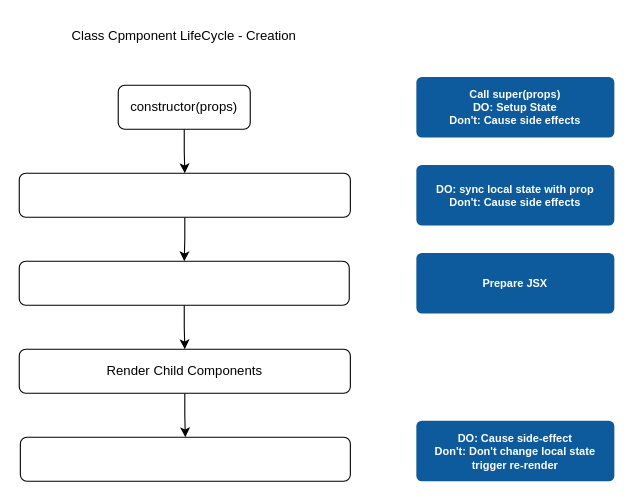
The diagram is 634 pixels wide and 501 high, and some of its shapes have lost their labels. Here are the shapes that lost their labels. From the top down, the centre of each, then its label:
At point (184, 194): "getDerievedStatsFromProps(props,state)".
At point (183, 282): "render()".
At point (184, 458): "componentDidMount()".
